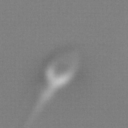normal: (20, 87, 68, 128)
